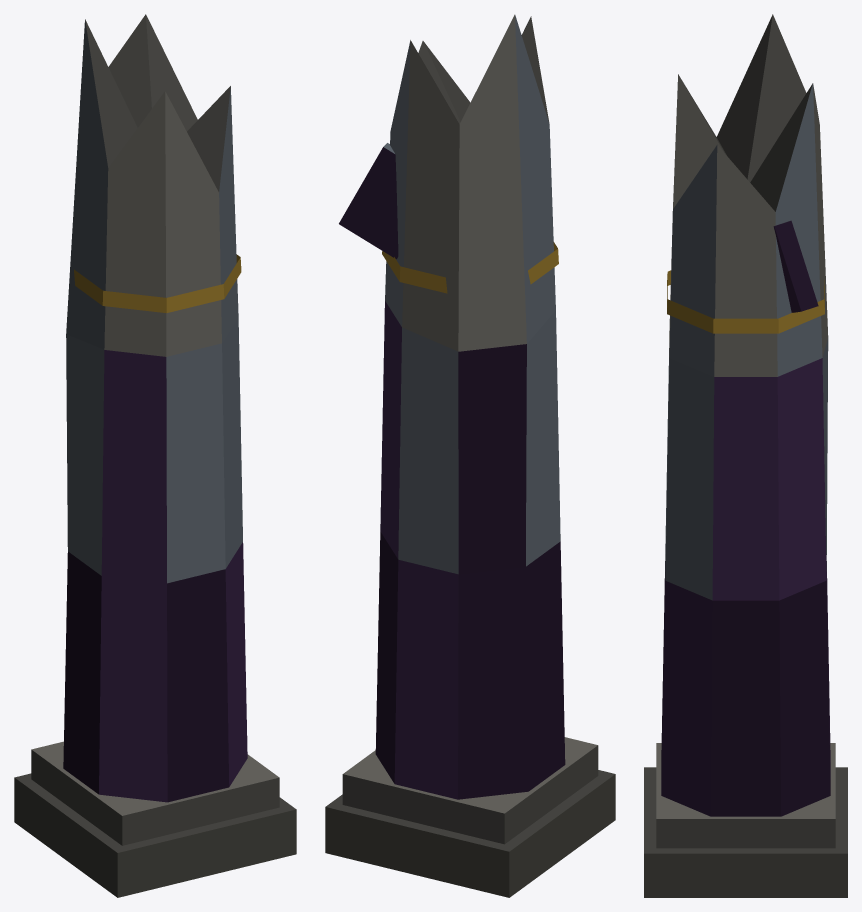
File: veil-pillar.glb
3 renders of one model, left to right at view 1: azimuth 30°, elevation 25°; view 2: azimuth 150°, elevation 25°; view 3: azimuth 270°, elevation 25°, orthographic. The views are drawn at different scales.
Parts seen in each view (by area): view 1: VeilPillar; view 2: VeilPillar; view 3: VeilPillar.
Part boxes in pixels (box(x1,y1,x2,y2)): VeilPillar: box(14, 14, 296, 897); VeilPillar: box(325, 14, 615, 897); VeilPillar: box(644, 14, 847, 897).
Size of the model in its own units: 0.5183 by 2.2 by 0.5.
Materials: 1 (1 with a texture image).
